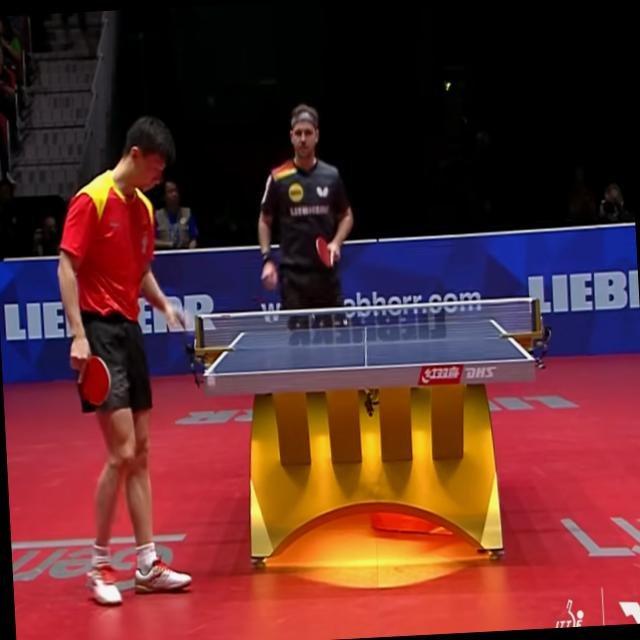TT Net: (194, 295, 541, 356)
TT Racket: (69, 348, 124, 419), (311, 227, 337, 271)
TT Table: (202, 314, 535, 379)
